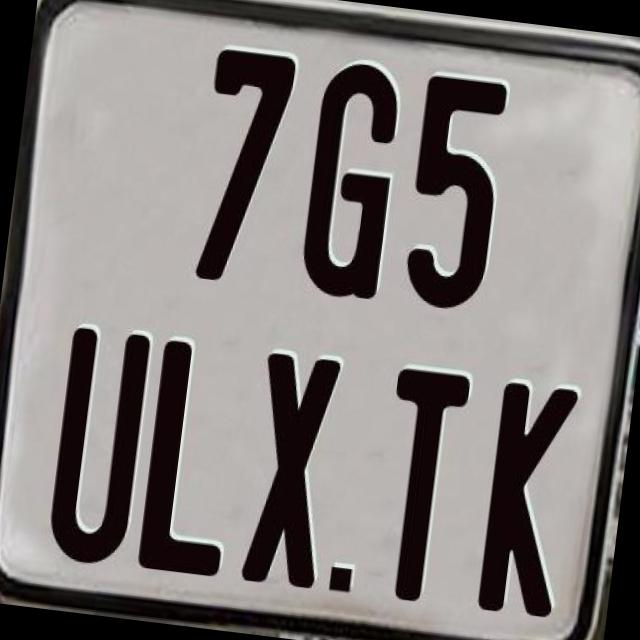5: (398, 72, 511, 317)
7: (187, 46, 301, 286)
G: (294, 55, 406, 302)
K: (474, 380, 586, 624)
L: (136, 340, 250, 586)
T: (370, 362, 476, 606)
U: (41, 323, 152, 574)
X: (240, 351, 342, 588)
